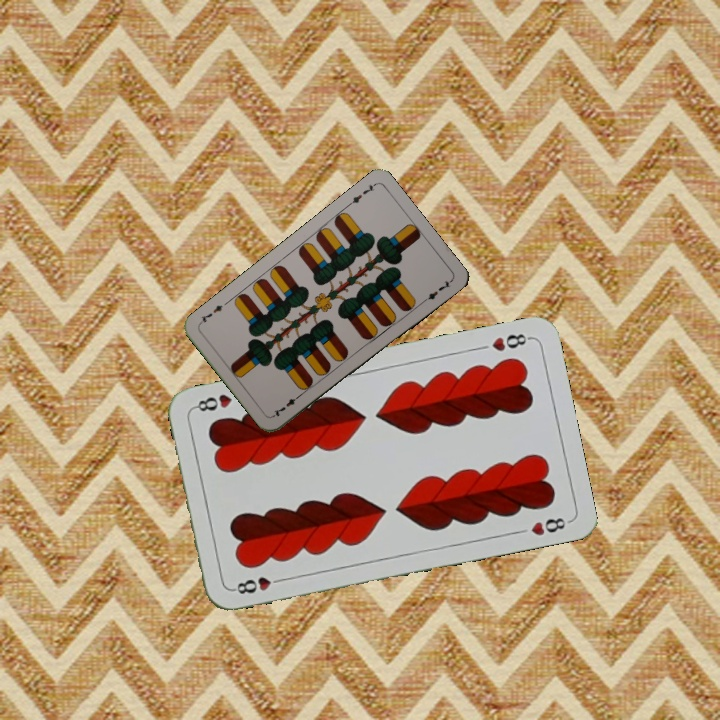E7: (269, 390, 304, 419), (344, 180, 378, 209)
H8: (228, 572, 287, 597), (488, 329, 534, 354)
